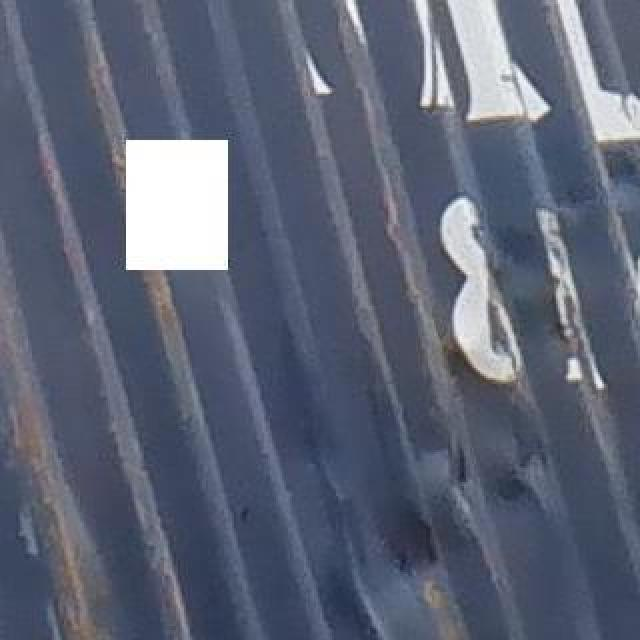dent: (263, 297, 591, 640)
